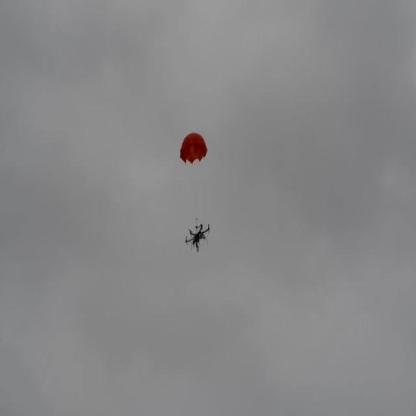drone: (182, 214, 212, 254)
